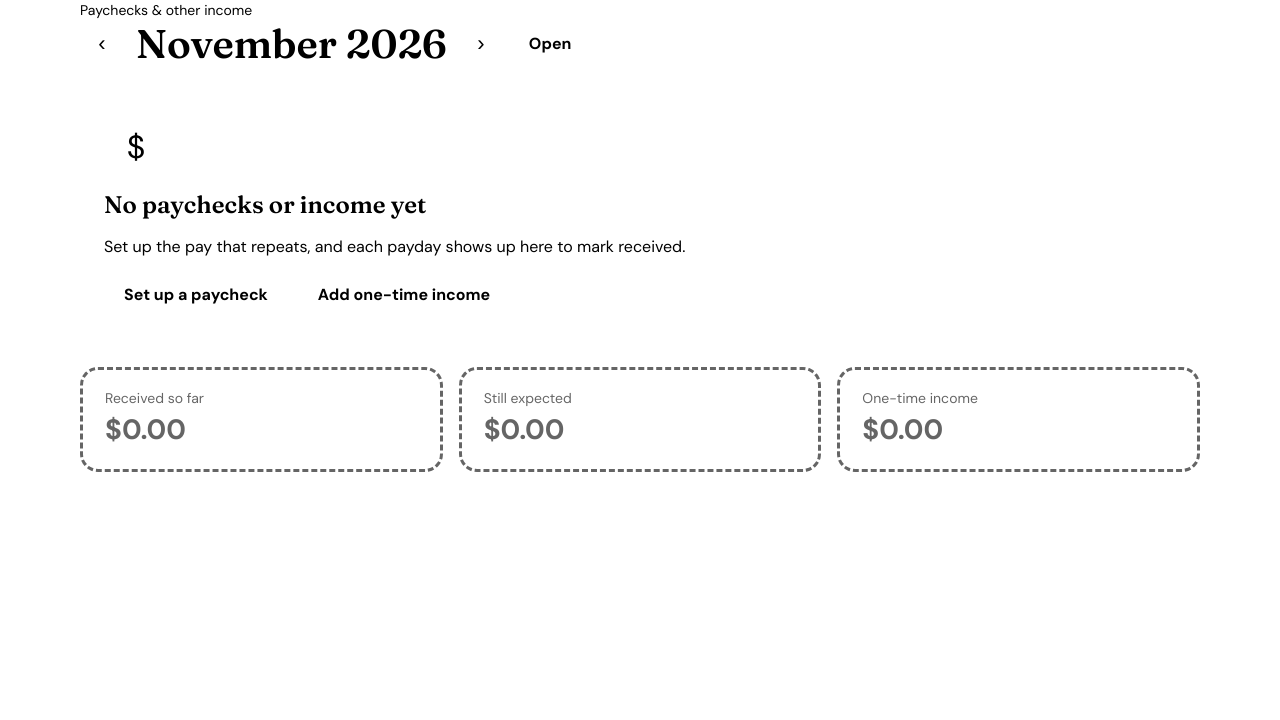
Test case: P2-09 empty page (spec §6.14) › opens the paycheck form
The width and height of the screenshot is (1280, 720).
Click the button "Set up a paycheck" at (196, 295), box x1=104 y1=271 x2=288 y2=319
(page scrolled)
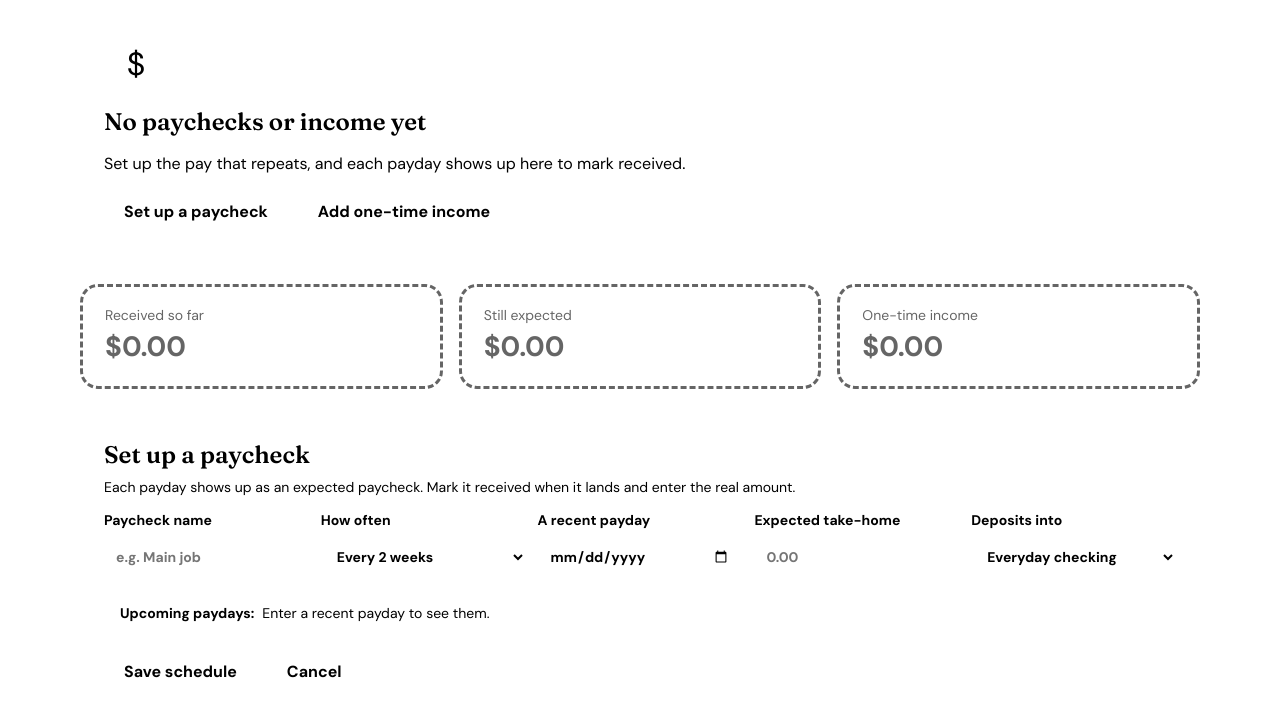
Result: the form "Set up a paycheck" is shown at x1=80 y1=413 x2=1200 y2=719
